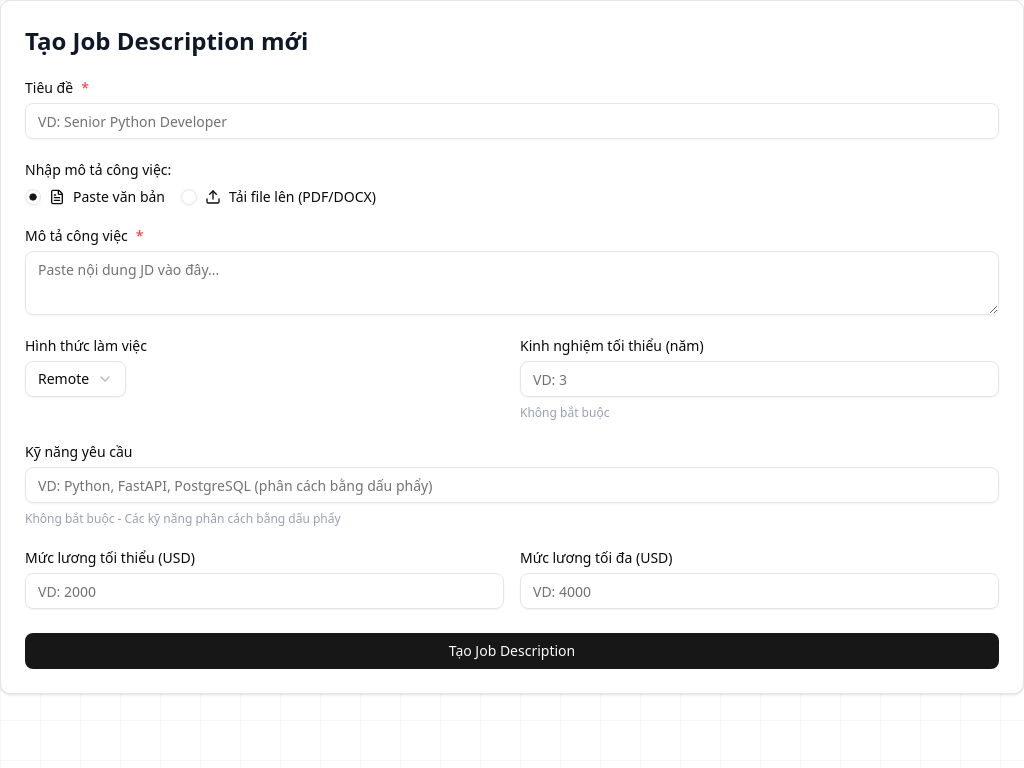
Test: JDUploadForm › switches between text and file upload modes
This screenshot has width=1024, height=768.
Check: the text box labelled "Mô tả công việc *" is shown, box x1=25 y1=251 x2=999 y2=315
Note: Switch to file mode
Click the radio button named "Tải file lên" next to "Tải file lên (PDF/DOCX)".
click(189, 197)  # box x1=181 y1=189 x2=197 y2=205
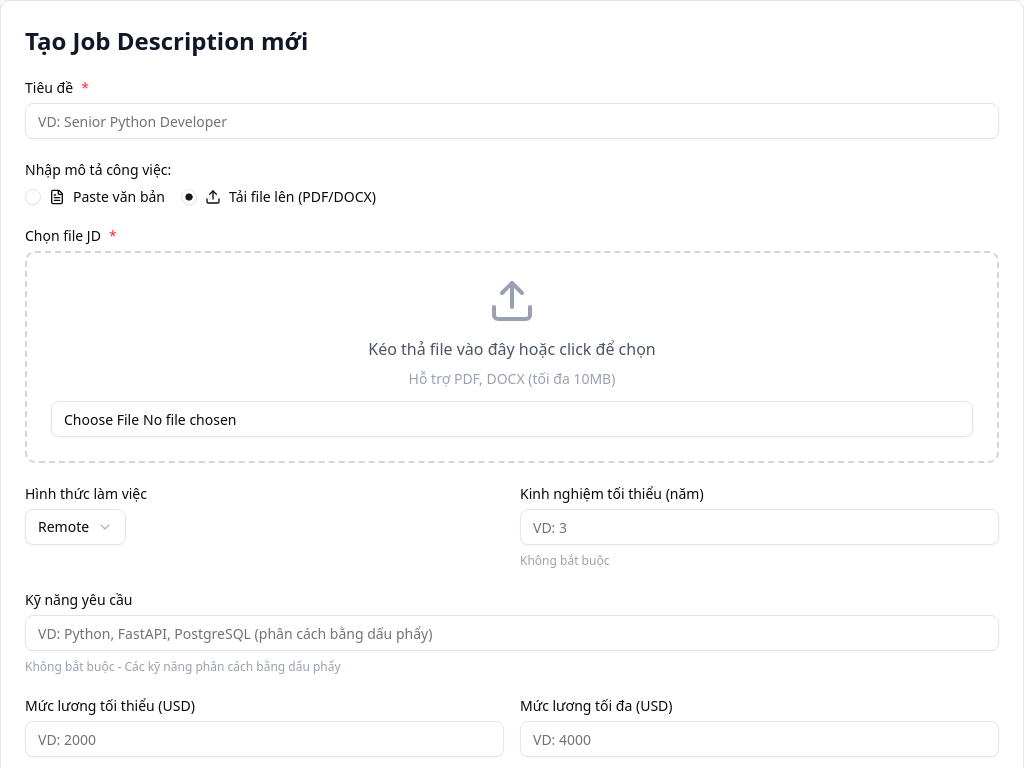
Check: the text "Kéo thả file vào đây hoặc click để chọn" is shown, box x1=368 y1=338 x2=656 y2=360
